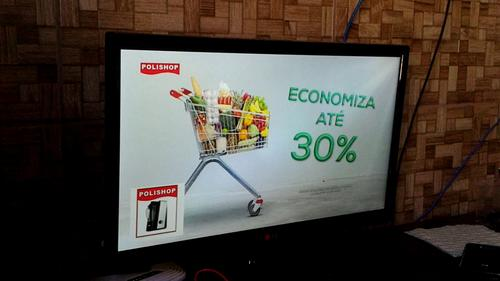Polishop #1: (128, 181, 185, 244)
